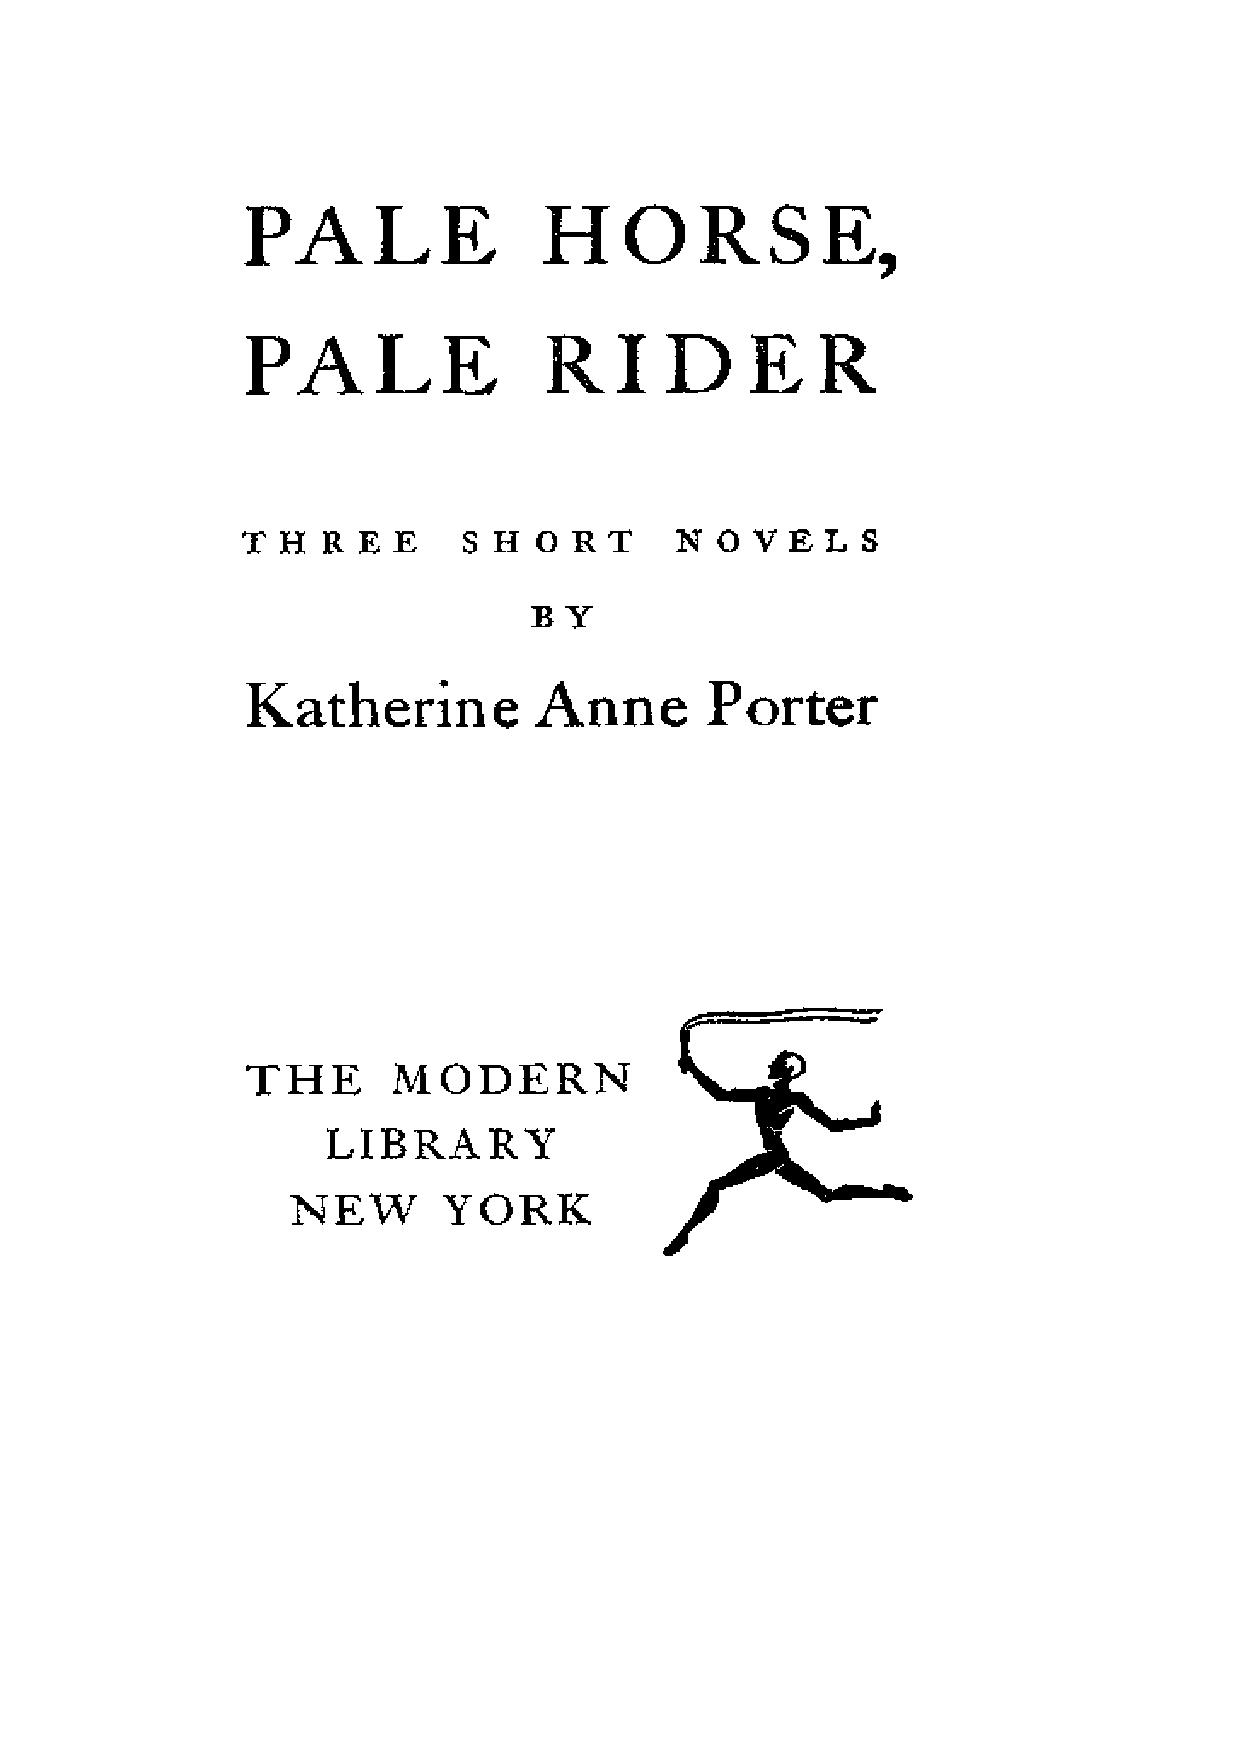author: (244, 603, 878, 730)
title: (240, 200, 900, 564)
